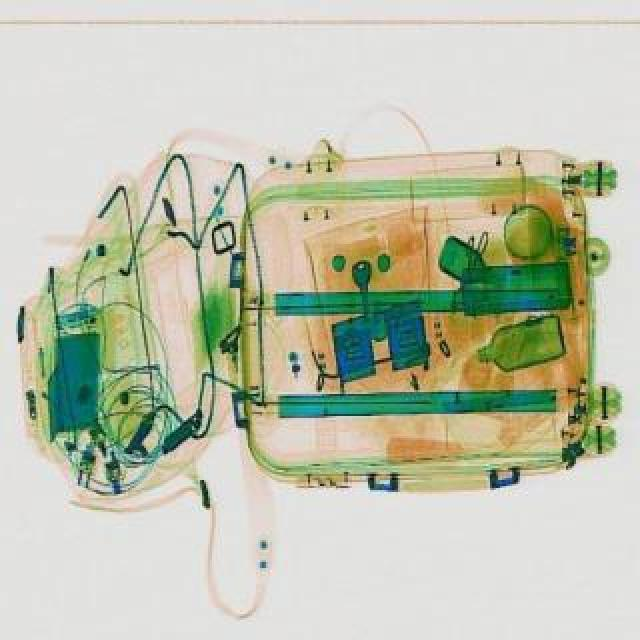pliers: (456, 228, 488, 300)
